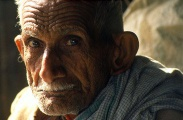male: (17, 7, 106, 118)
